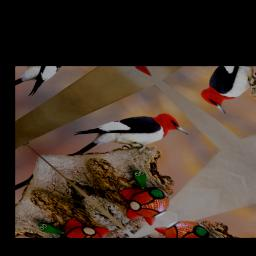Woodpecker: (53, 92, 192, 184)
